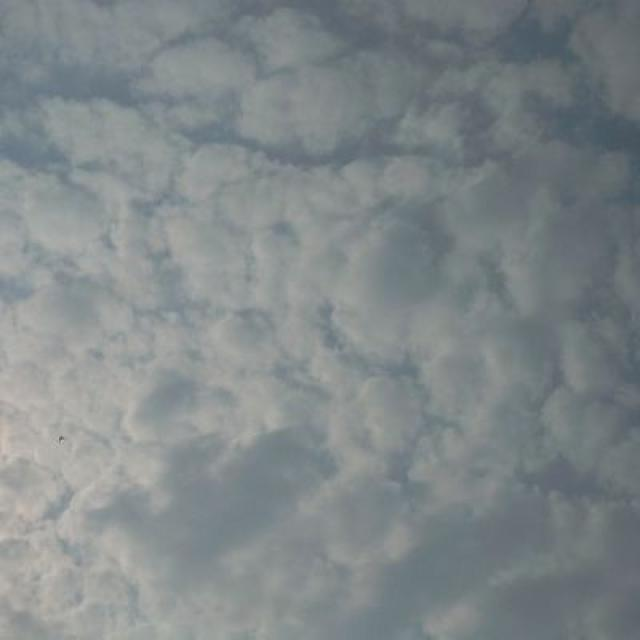Ac: (14, 68, 582, 546)
